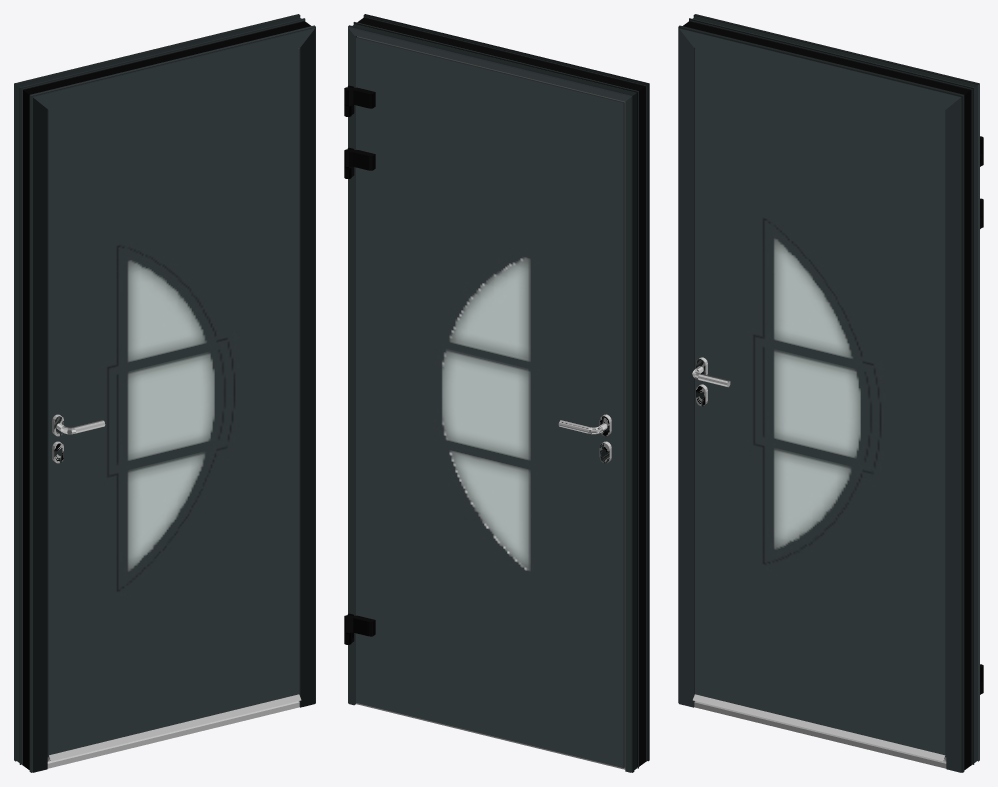
3 renders of one model, left to right at view 1: azimuth 30°, elevation 25°; view 2: azimuth 150°, elevation 25°; view 3: azimuth 330°, elevation 25°, orthographic.
Parts seen in each view (by area): view 1: ouvrant, 105; view 2: ouvrant, 105; view 3: ouvrant, 105.
Boxes of the visible parts, x1,y1,x2,y2 form: ouvrant: (47, 48, 301, 761); 105: (14, 14, 315, 772); ouvrant: (344, 36, 625, 768); 105: (344, 14, 649, 772); ouvrant: (693, 48, 983, 761); 105: (678, 14, 983, 772).
Bounding box in the file's own units: 96 × 218 × 24.64.
Materials: 1 (1 with a texture image).
